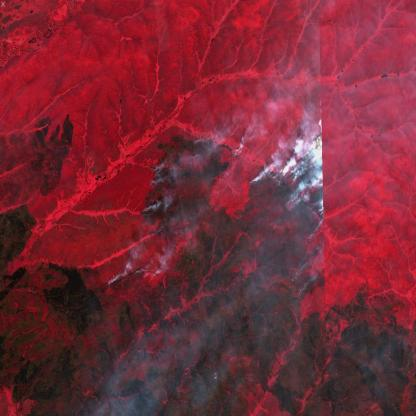fire: (248, 136, 328, 232), (136, 141, 175, 224), (96, 258, 164, 291), (226, 141, 243, 159)
